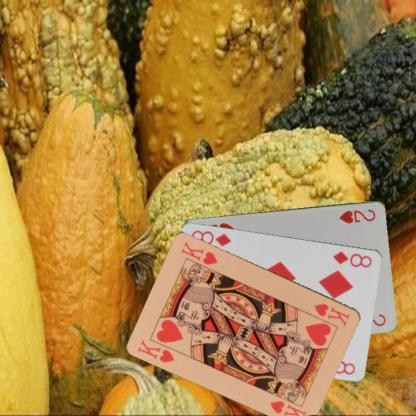2h: (337, 206, 377, 224)
8d: (330, 248, 374, 268)
Kh: (135, 337, 176, 364), (312, 300, 352, 327)
